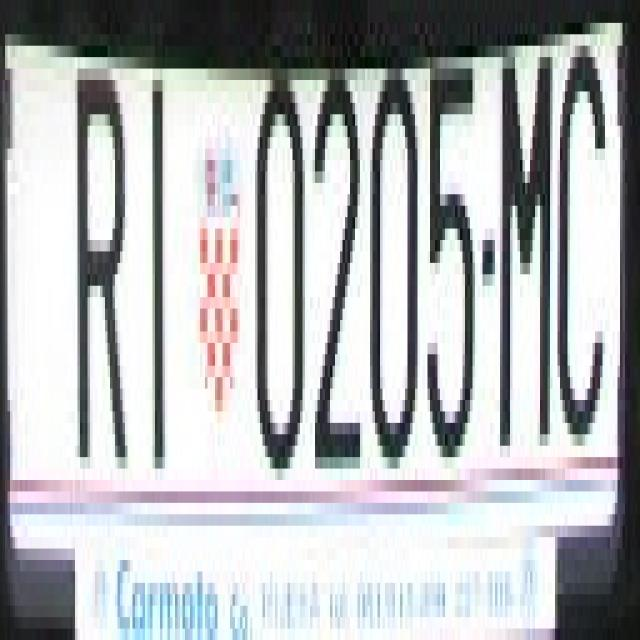0: (250, 80, 308, 480), (370, 69, 420, 468)
2: (312, 57, 362, 469)
5: (422, 57, 480, 457)
C: (555, 34, 610, 446)
M: (497, 34, 555, 446)
